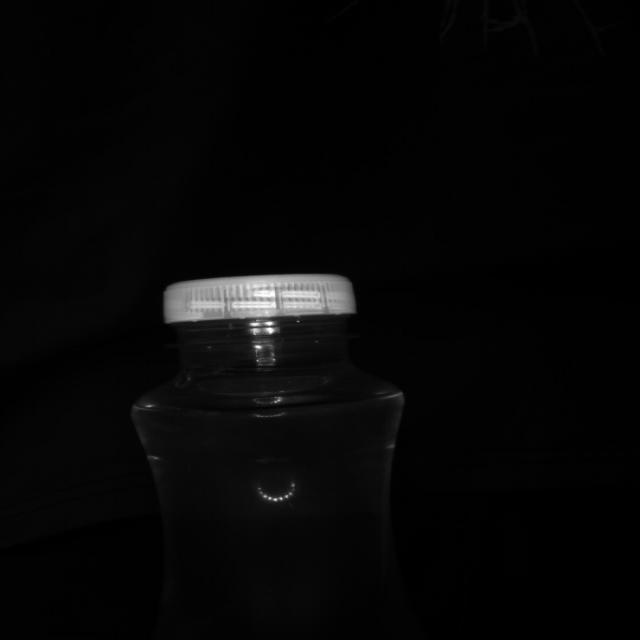Not Good: (160, 271, 361, 343)
